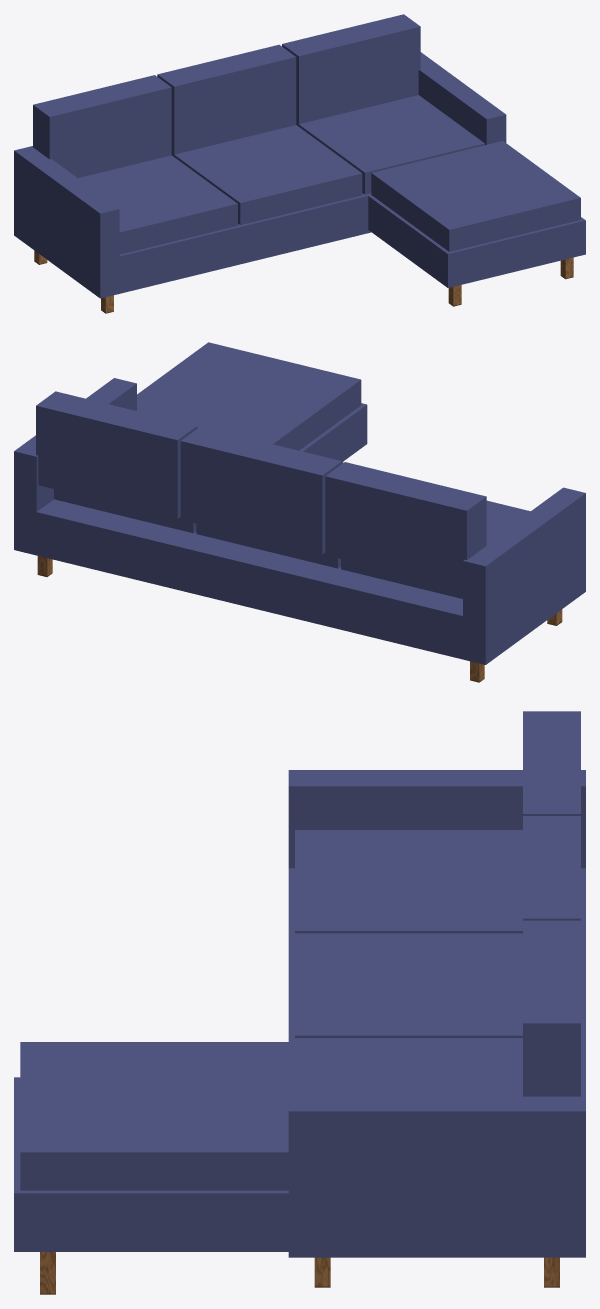
File: Sarokkanape_jobb.obj
3 renders of one model, top to bottom at view 1: azimuth 30°, elevation 25°; view 2: azimuth 150°, elevation 25°; view 3: azimuth 270°, elevation 25°, orthographic. The views are drawn at different scales.
Bounding box in the file's own units: 2.5 × 0.89 × 1.77.
Materials: 2 (1 with a texture image).
